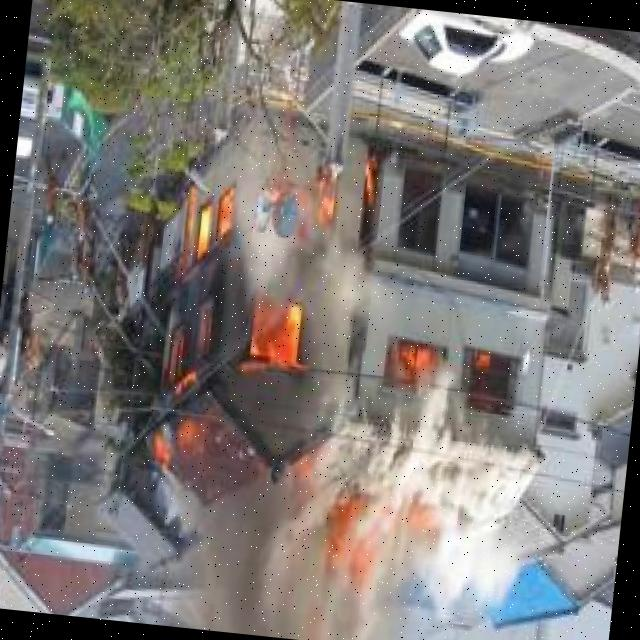fire: (138, 141, 341, 499), (312, 488, 395, 587), (385, 341, 513, 399)
